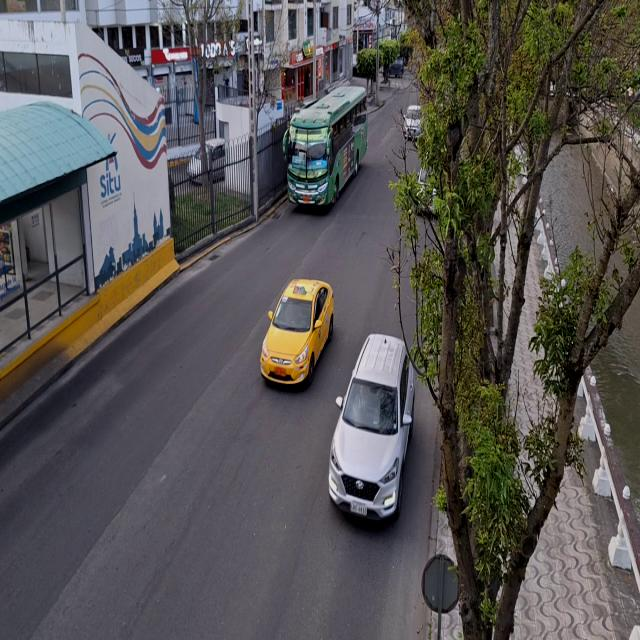BUS: (287, 98, 369, 212)
SED: (263, 281, 333, 398)
SUV: (337, 333, 411, 535)
